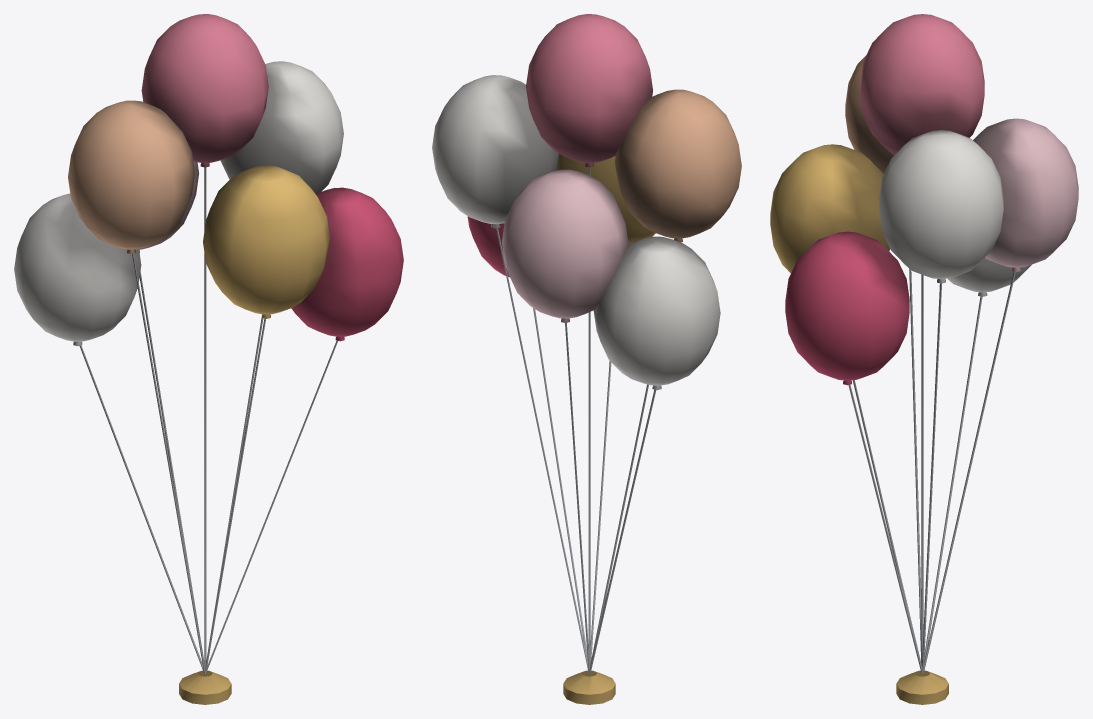
File: bong-bay.glb
The picture shows the model from 3 angles, left to right: view 1: azimuth 30°, elevation 25°; view 2: azimuth 150°, elevation 25°; view 3: azimuth 270°, elevation 25°; orthographic projection.
Visible parts, largest first — view 1: bong-bay; view 2: bong-bay; view 3: bong-bay.
Part boxes in pixels (<box>): bong-bay: <box>14,14,403,704</box>; bong-bay: <box>432,14,741,704</box>; bong-bay: <box>770,14,1078,704</box>.
Bounding box in the file's own units: 0.94 × 1.99 × 0.8215.
